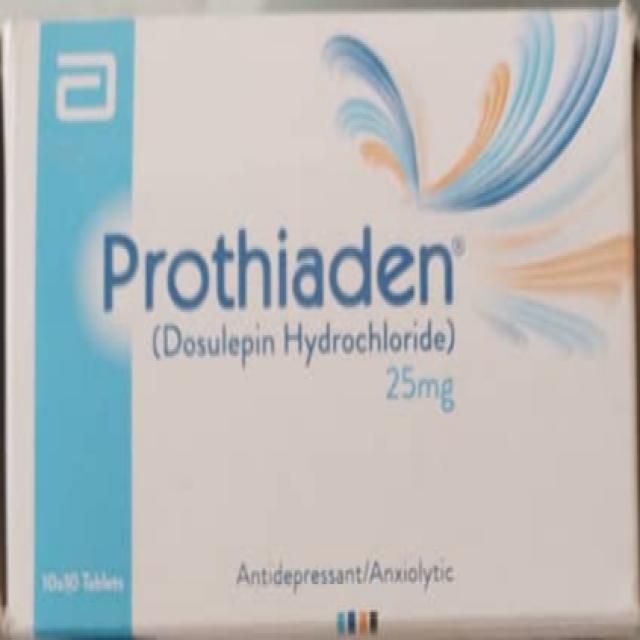drug-name: (102, 224, 456, 315)
